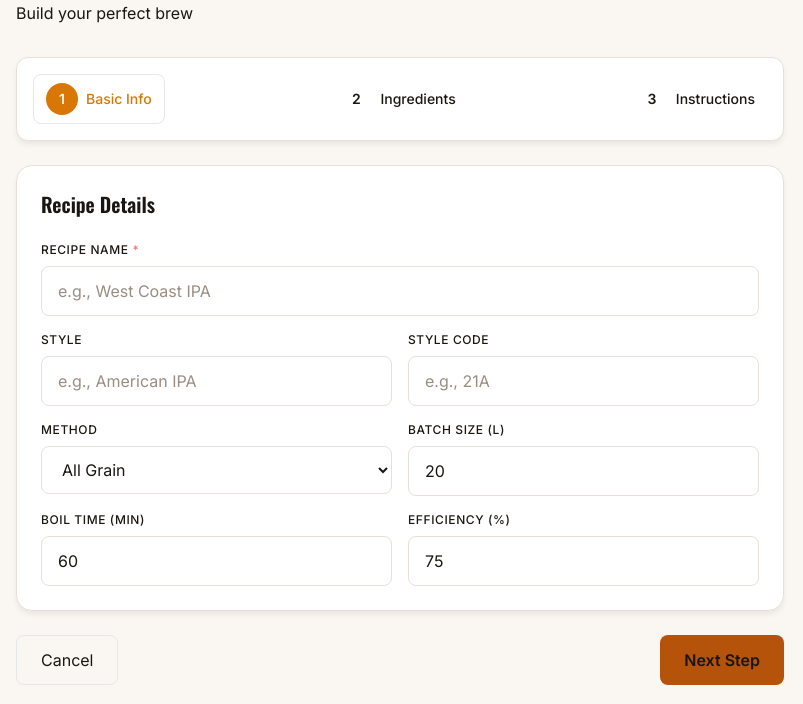
RecipeForm Page › Create Mode › has notes textarea
(page scrolled)
Step 1. Click the button "Next Step" → (722, 660), box [660,635,784,685]
(page scrolled)
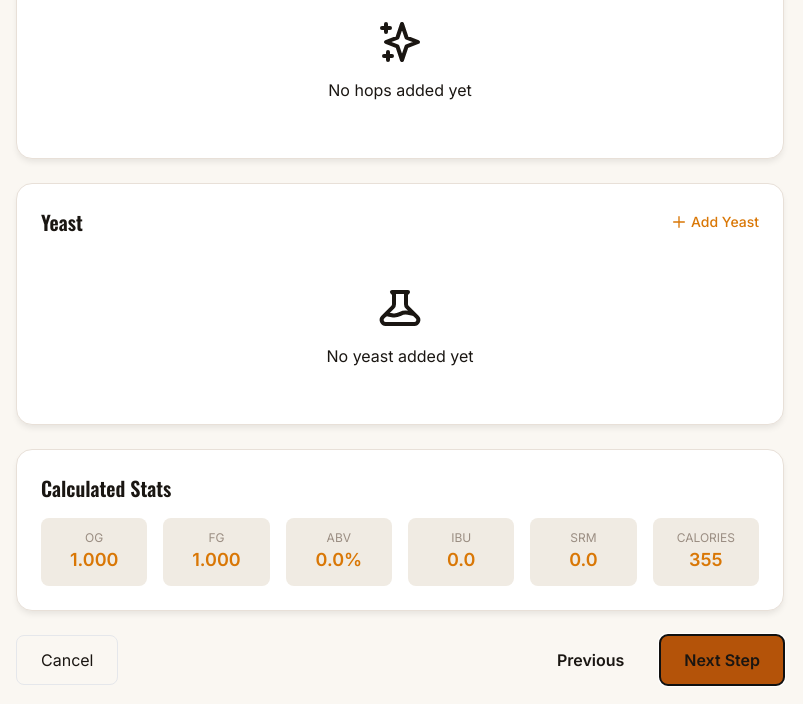
Step 2. Click the button "Next Step" → (722, 660), box [660,635,784,685]
(page scrolled)
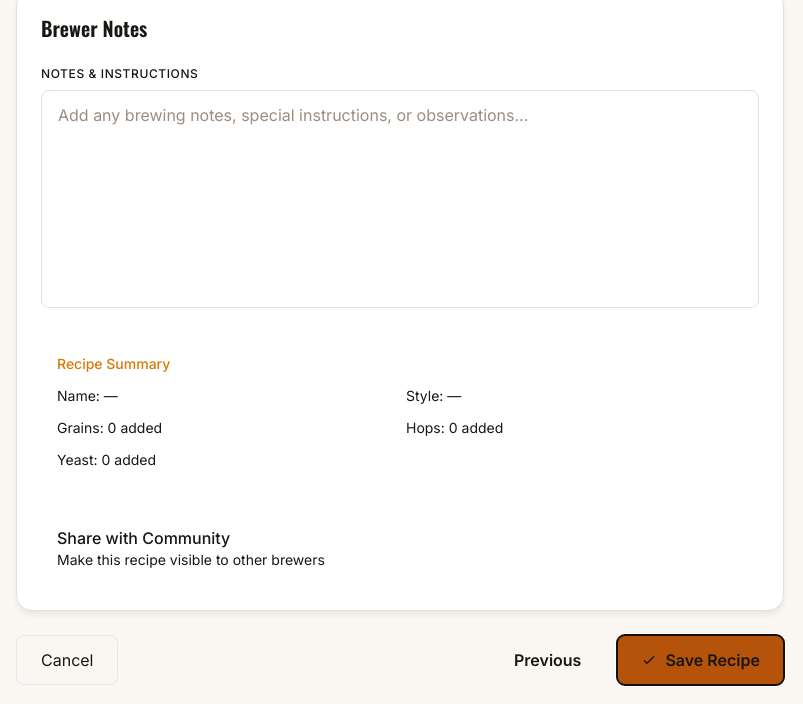
Check: the text box labelled "Notes & Instructions" is shown, box [41,90,759,308]
